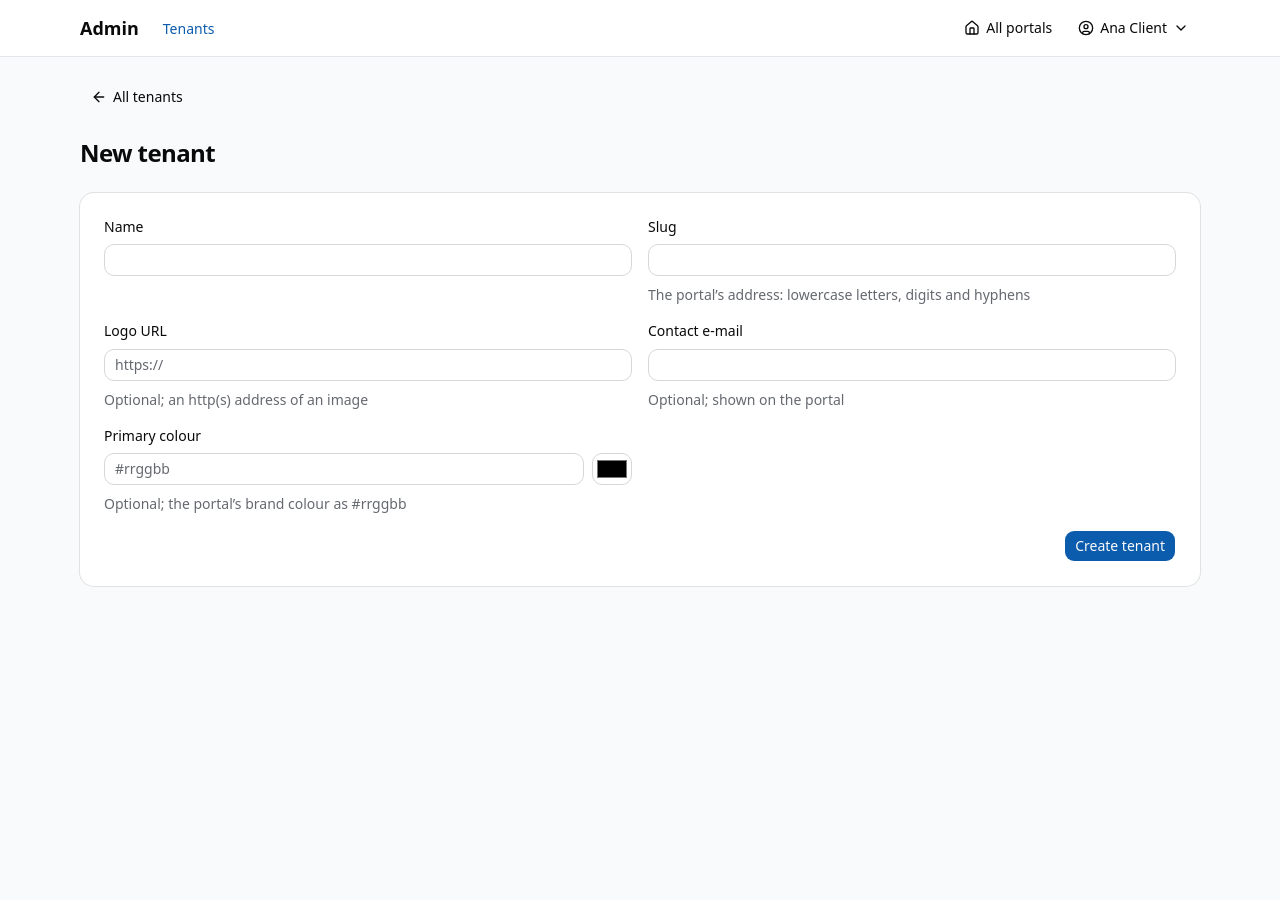
Test case: AdminNewTenantPage › creates a tenant and opens its page for the hosts
Type "Lakeside Cabins" into the field labelled "Name".
click(368, 260); type("Lakeside Cabins")  # box [104, 244, 632, 276]
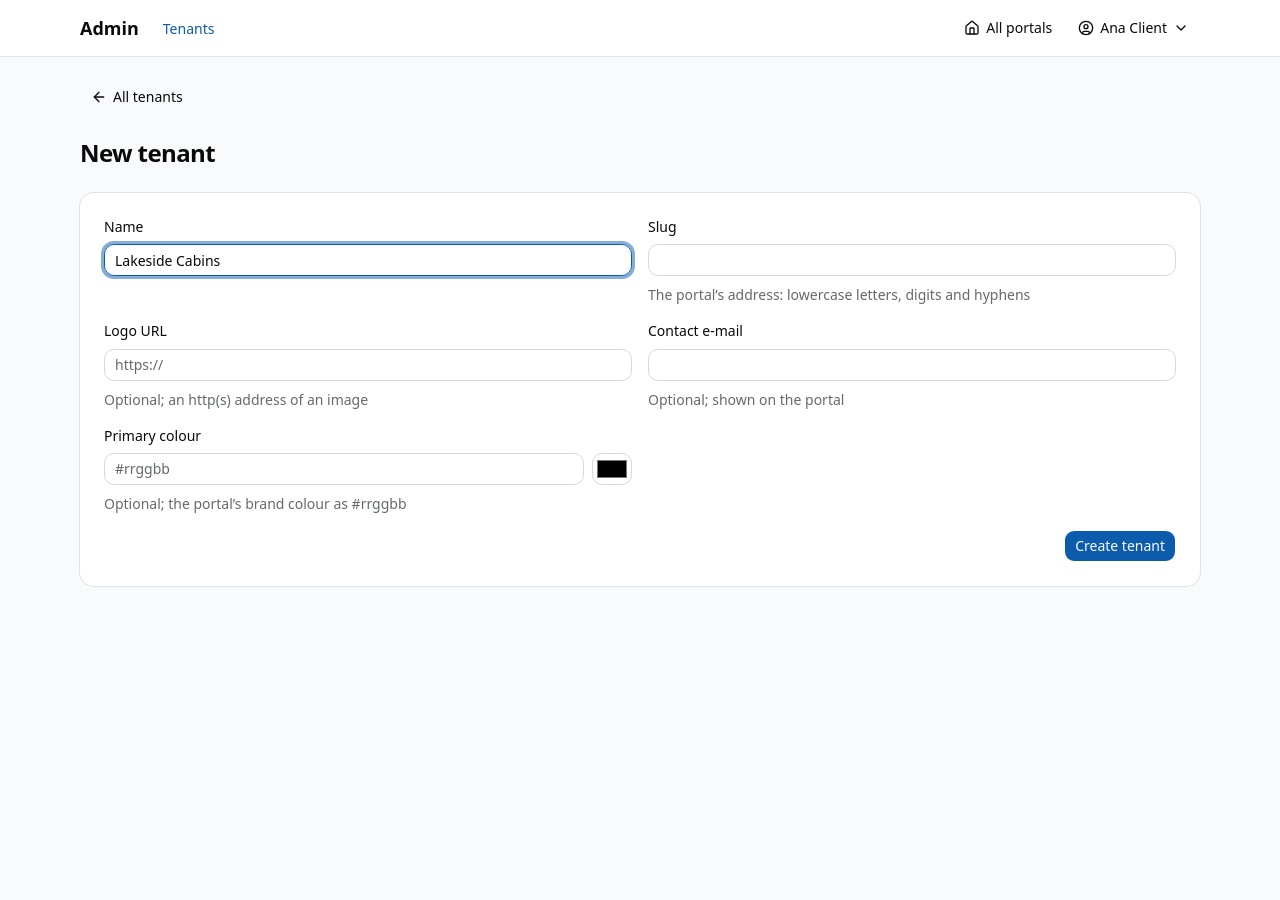
Type "lakeside" into the field labelled "Slug".
click(912, 260); type("lakeside")  # box [648, 244, 1176, 276]
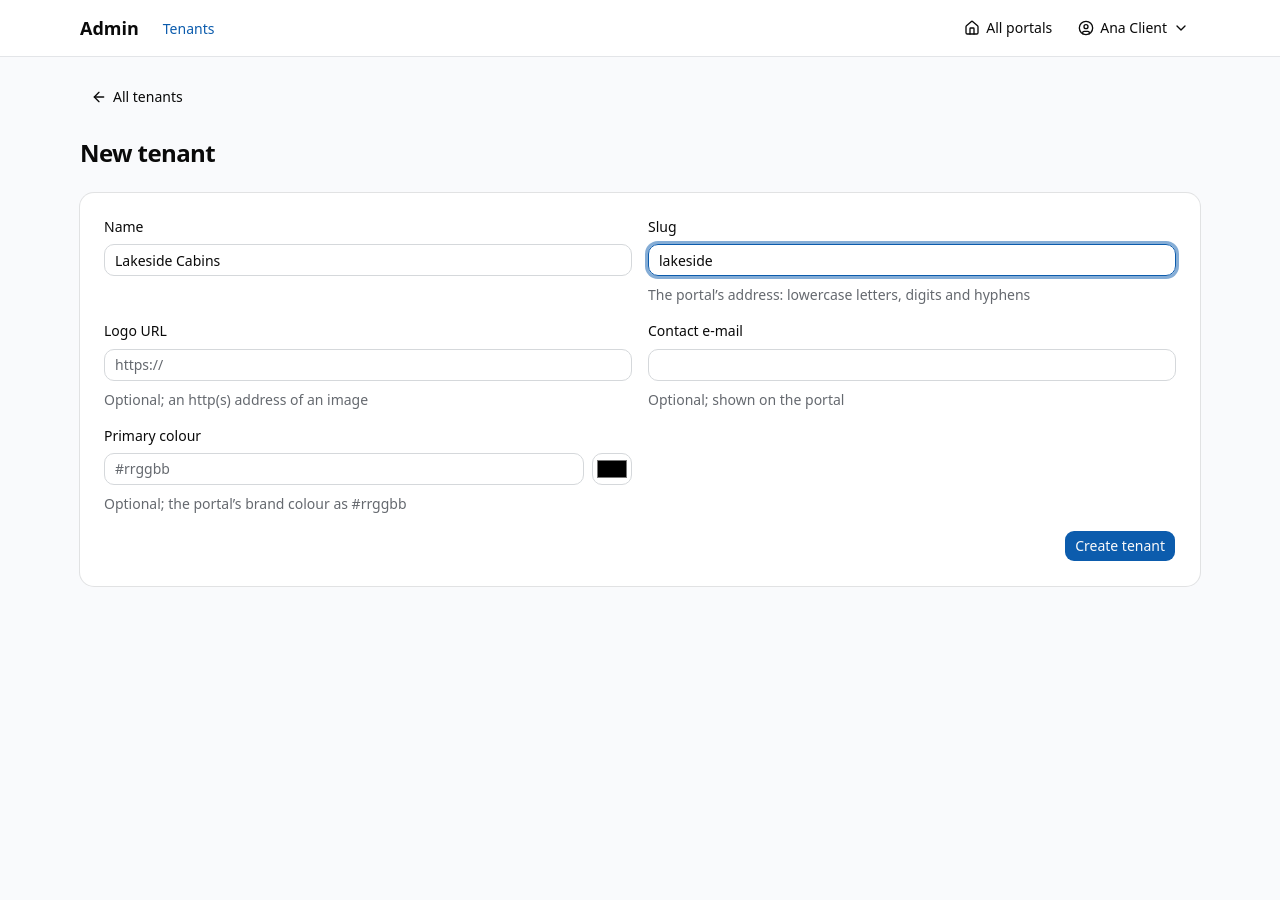
Click the button "Create tenant".
click(1120, 546)  # box [1064, 530, 1176, 562]
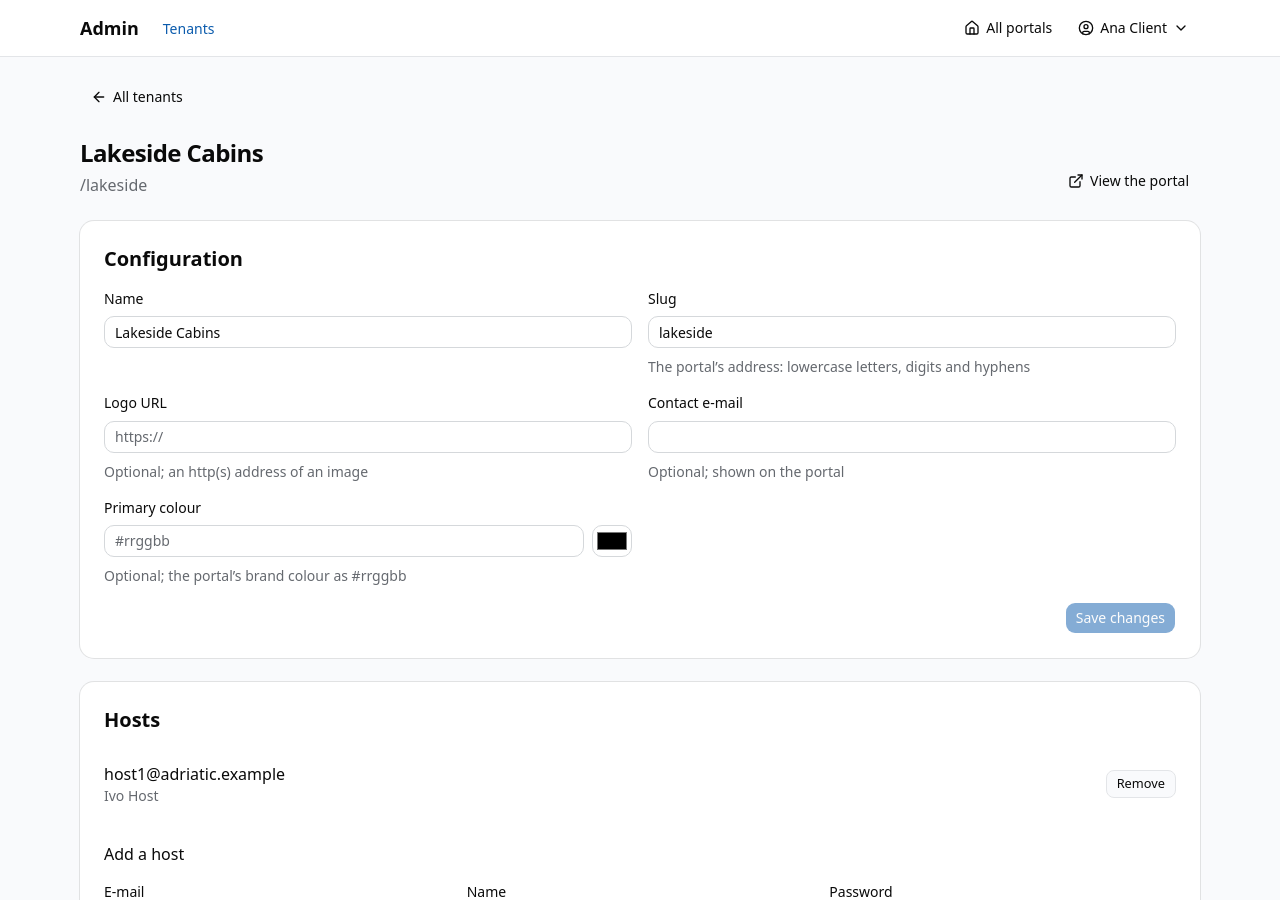
Check: the heading "Hosts" is shown, box [104, 706, 160, 733]
